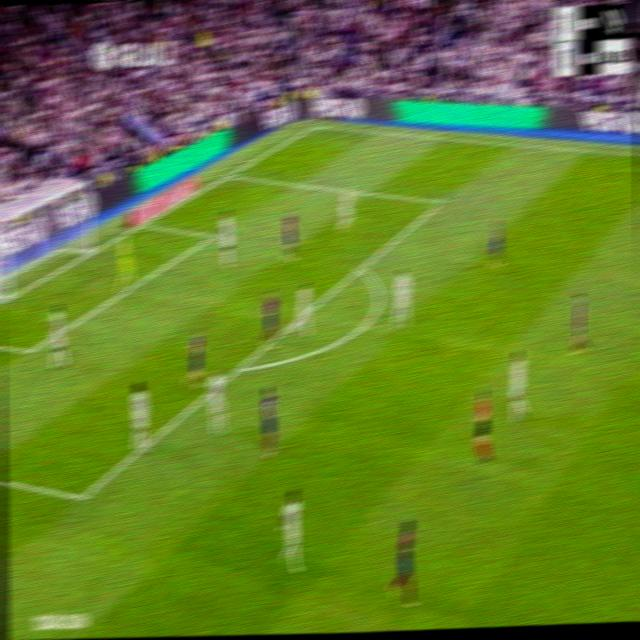bigarea_bottom_inner: (74, 483, 90, 511)
bigarea_top_inner: (434, 194, 446, 209)
bigarea_top_outter: (223, 166, 235, 180)
bottom_arc_area_intersection: (231, 357, 245, 377)
corner: (308, 119, 322, 131)
smallarea_top_inner: (206, 227, 218, 245)
top_arc_area_intersection: (353, 258, 365, 276)
